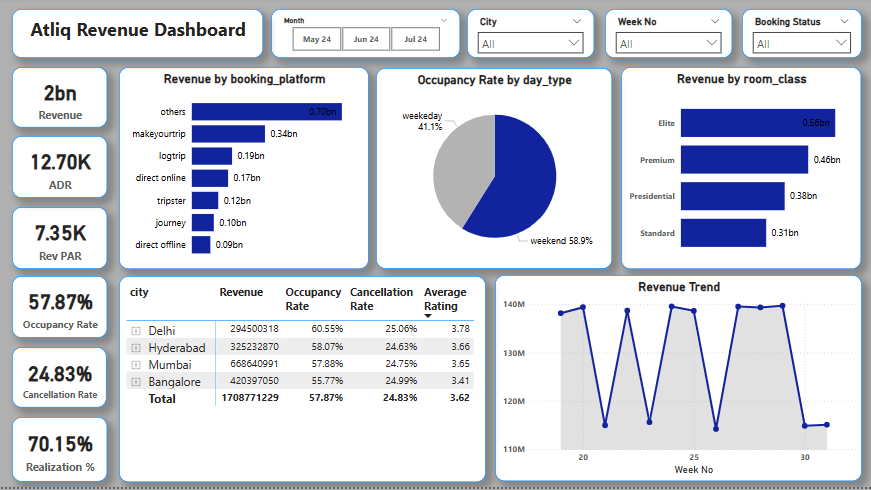

The dashboard page shown, as its layout file describes it:
{"tool":"powerbi","page":{"name":"Dashboard","canvas":[1280,720],"ordinal":0},"visuals":[{"type":"slicer","title":"Filter By City","fields":{"Values":["dim_date.W.No"]},"box":[889,17.6,186.6,72],"z":7000},{"type":"slicer","title":"Filter By City","fields":{"Values":["fact_bookings.booking_status"]},"box":[1090.1,17.3,175.7,72],"z":8000},{"type":"slicer","title":"Filter By City","fields":{"Values":["dim_date.mmm yy"]},"box":[398.9,17.3,277.9,72],"z":10000},{"type":"card","fields":{"Values":["Key Measures.1. Revenue"]},"box":[17.3,102.2,139.7,89.3],"z":11000},{"type":"barChart","fields":{"Category":["dim_room.room_class"],"Y":["Key Measures.Revenue"]},"box":[913,102.2,352.8,296.6],"z":12000},{"type":"card","fields":{"Values":["Key Measures.17. Rev PAR"]},"box":[17.3,308.2,139.7,90.7],"z":13000},{"type":"card","fields":{"Values":["Key Measures.Cancelletion %"]},"box":[17.9,514.8,139,89.5],"z":14000},{"type":"card","fields":{"Values":["Key Measures.15.ADR"]},"box":[17.3,204.5,139.7,90.7],"z":15000},{"type":"card","fields":{"Values":["Key Measures.5. Occupancy%"]},"box":[17.3,410.4,139.7,90.7],"z":16000},{"type":"clusteredBarChart","fields":{"Category":["fact_bookings.booking_platform"],"Y":["Key Measures.Revenue"]},"box":[174.2,102.2,367.2,296.6],"z":17000},{"type":"pieChart","fields":{"Category":["dim_date.day_type"],"Y":["Key Measures.Occupancy Rate"]},"box":[553,103.7,347,295.2],"z":18000},{"type":"areaChart","title":"Revenue Trend","fields":{"Category":["dim_date.W.No"],"Y":["Key Measures.Revenue"]},"box":[727.3,408.5,539.3,302.7],"z":19000},{"type":"card","fields":{"Values":["Key Measures.Realization %"]},"box":[17.3,617.8,139.7,95],"z":20000},{"type":"textbox","box":[17.3,17.3,368.6,72],"z":22000},{"type":"pivotTable","fields":{"Rows":["dim_hotels.city","dim_hotels.category"],"Values":["Key Measures.Revenue","Key Measures.Occupancy%","Key Measures.Cancelletion %","Key Measures.Average Rating"]},"box":[174.9,410,539.3,302.7],"z":23000},{"type":"slicer","title":"Filter By City","fields":{"Values":["dim_hotels.city"]},"box":[686.2,17.6,186.6,72],"z":24000}]}

Visuals, with their boxes in screenshot pixels (x1, y1, x2, y2), scaled from the page's 1280x720 canvas onto the 871x490 screenshot:
"Filter By City" slicer: bbox=(605, 12, 732, 61)
"Filter By City" slicer: bbox=(742, 12, 861, 61)
"Filter By City" slicer: bbox=(271, 12, 461, 61)
card - Key Measures.1. Revenue: bbox=(12, 70, 107, 130)
barChart - dim_room.room_class x Key Measures.Revenue: bbox=(621, 70, 861, 271)
card - Key Measures.17. Rev PAR: bbox=(12, 210, 107, 271)
card - Key Measures.Cancelletion %: bbox=(12, 350, 107, 411)
card - Key Measures.15.ADR: bbox=(12, 139, 107, 201)
card - Key Measures.5. Occupancy%: bbox=(12, 279, 107, 341)
clusteredBarChart - fact_bookings.booking_platform x Key Measures.Revenue: bbox=(119, 70, 368, 271)
pieChart - dim_date.day_type x Key Measures.Occupancy Rate: bbox=(376, 71, 612, 271)
"Revenue Trend" areaChart: bbox=(495, 278, 862, 484)
card - Key Measures.Realization %: bbox=(12, 420, 107, 485)
textbox: bbox=(12, 12, 263, 61)
pivotTable - dim_hotels.city x dim_hotels.category: bbox=(119, 279, 486, 485)
"Filter By City" slicer: bbox=(467, 12, 594, 61)
